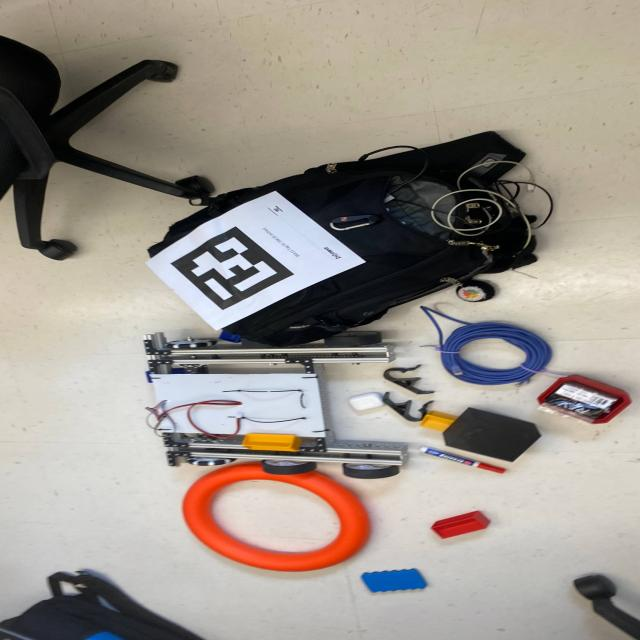blue-specimen: (219, 330, 241, 343)
red-specimen: (431, 511, 490, 539)
yellow-specimen: (242, 433, 301, 452), (420, 410, 457, 432)
